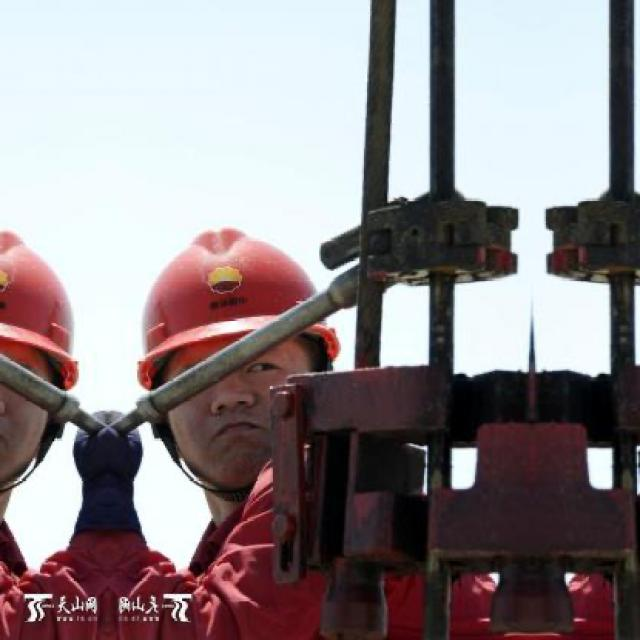helmet: (117, 202, 364, 483), (2, 200, 98, 483)
